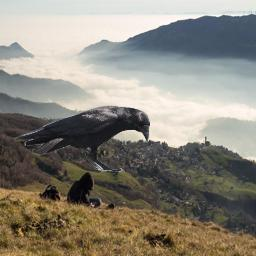Crow: (14, 105, 150, 172)
